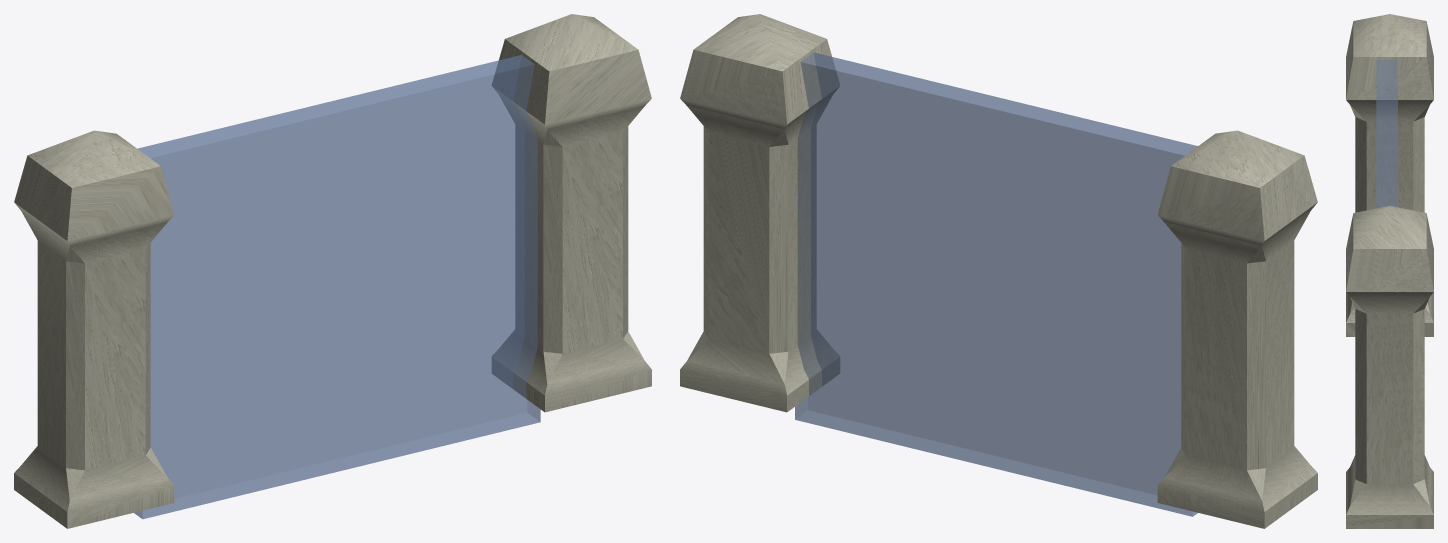
File: portal2.fbx
3 renders of one model, left to right at view 1: azimuth 30°, elevation 25°; view 2: azimuth 150°, elevation 25°; view 3: azimuth 270°, elevation 25°, orthographic. The views are drawn at different scales.
Parts seen in each view (by area): view 1: port, stupovi; view 2: port, stupovi; view 3: stupovi, port.
Boxes of the visible parts, <box> form: port: <box>134,55,540,519</box>; stupovi: <box>14,14,651,528</box>; port: <box>795,52,1197,516</box>; stupovi: <box>680,14,1317,528</box>; stupovi: <box>1346,14,1433,528</box>; port: <box>1376,59,1397,208</box>.
Size of the model in its own units: 24.06 by 15.44 by 3.8.
2 materials, 1 textured.
